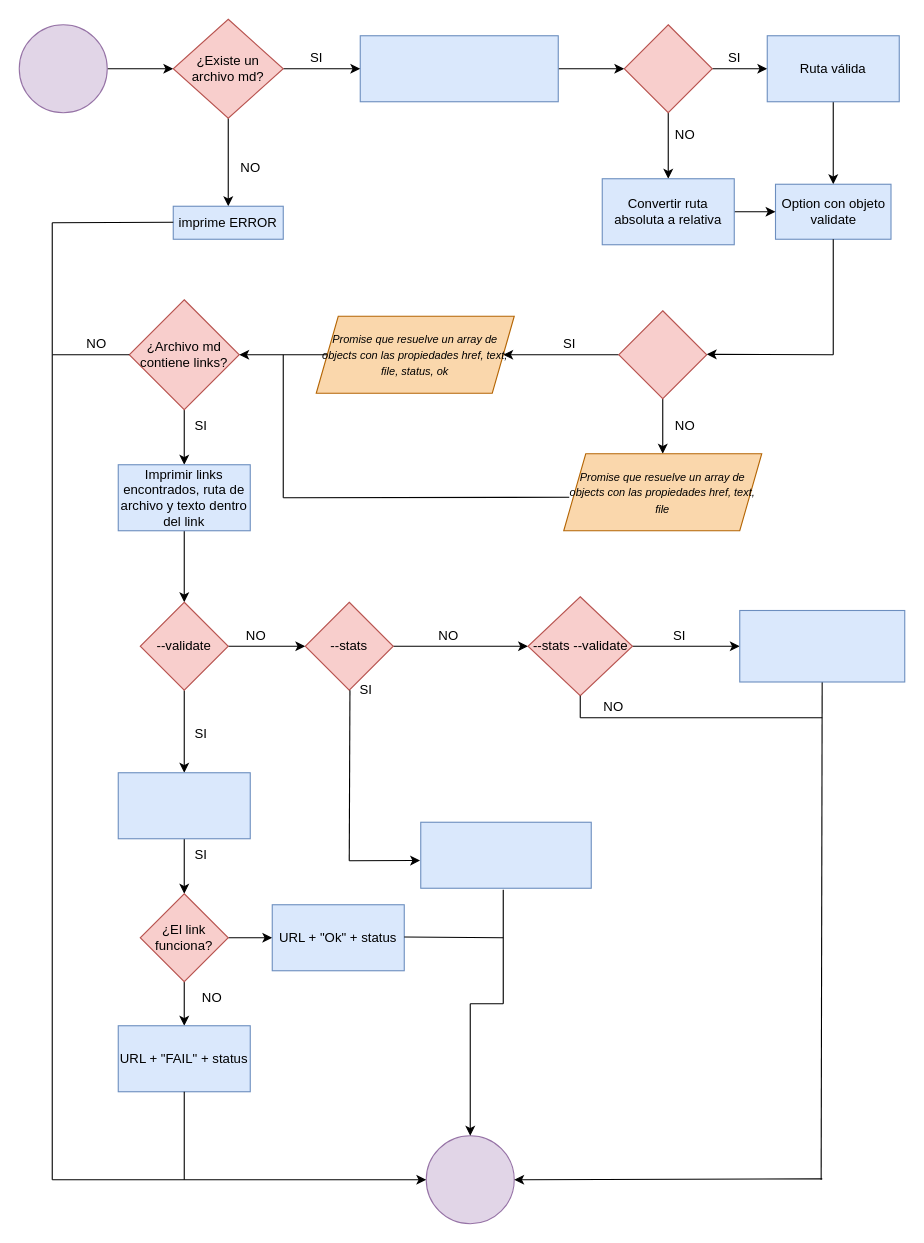
Some shapes in this 924 by 1243 pixel diagram are drawn without their labels. Each missing label, with the centre of its shape:
"Estadísticas de los resultados de la validación: total, unique, broken" goes at (822,645).
"FIN" goes at (469,1179).
"Function mdLinks(path, options)" goes at (458,68).
"INICIO" goes at (62,68).
"Output texto con estadísticas básicas sobre los links (total, unique)." goes at (505,854).
"Petición HTTP que valide si el link funciona" goes at (183,805).
"Validate: true" goes at (662,354).
"¿Ruta relativa?" goes at (667,68).
